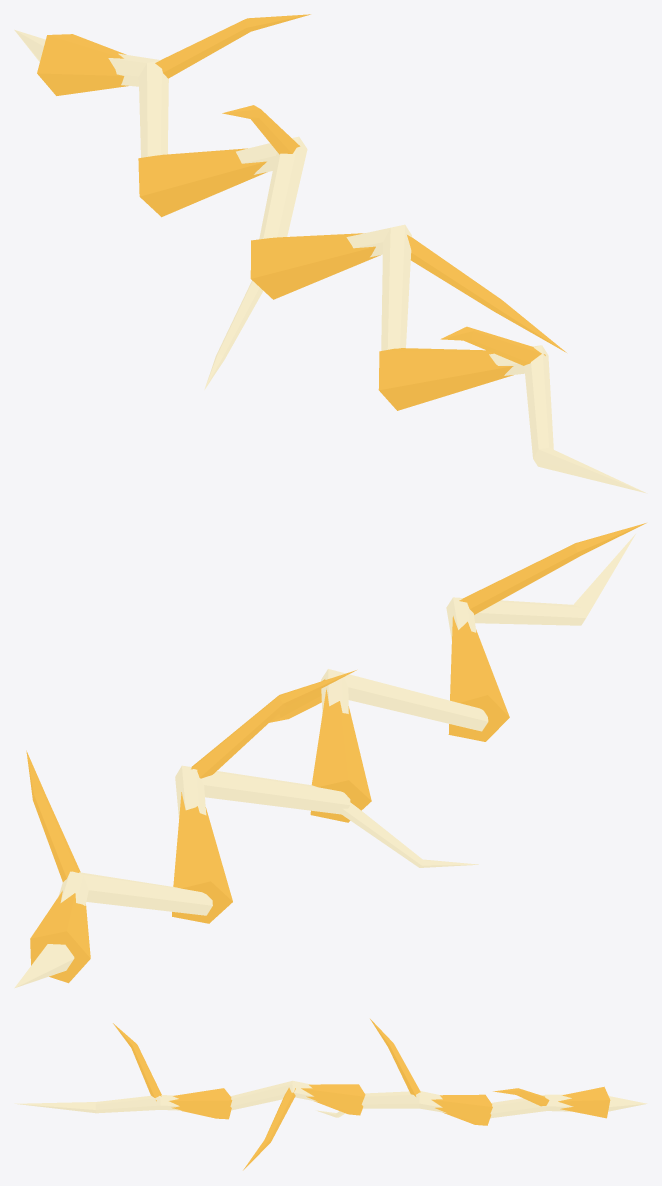
File: fx-arc.glb
The picture shows the model from 3 angles, top to bottom: view 1: azimuth 30°, elevation 25°; view 2: azimuth 150°, elevation 25°; view 3: azimuth 270°, elevation 25°; orthographic projection. The views are drawn at different scales.
Parts seen in each view (by area): view 1: arc; view 2: arc; view 3: arc.
Boxes of the visible parts, box(x1,y1,x2,y2) form: arc: box(14, 14, 647, 493); arc: box(14, 523, 646, 988); arc: box(14, 1019, 647, 1170).
Size of the model in its own units: 0.265 by 0.192 by 1.
